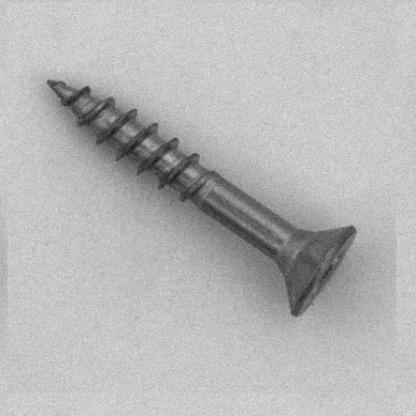metal: (45, 77, 357, 316)
